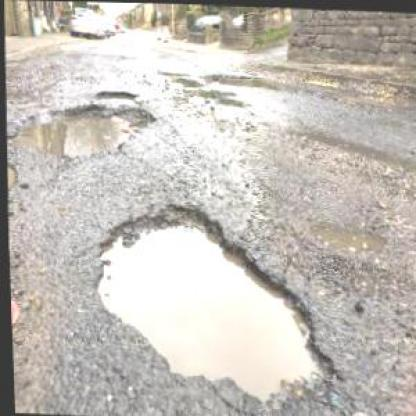pothole: (86, 194, 340, 408), (11, 99, 160, 158), (306, 216, 388, 255), (93, 86, 140, 103), (7, 162, 17, 192)
